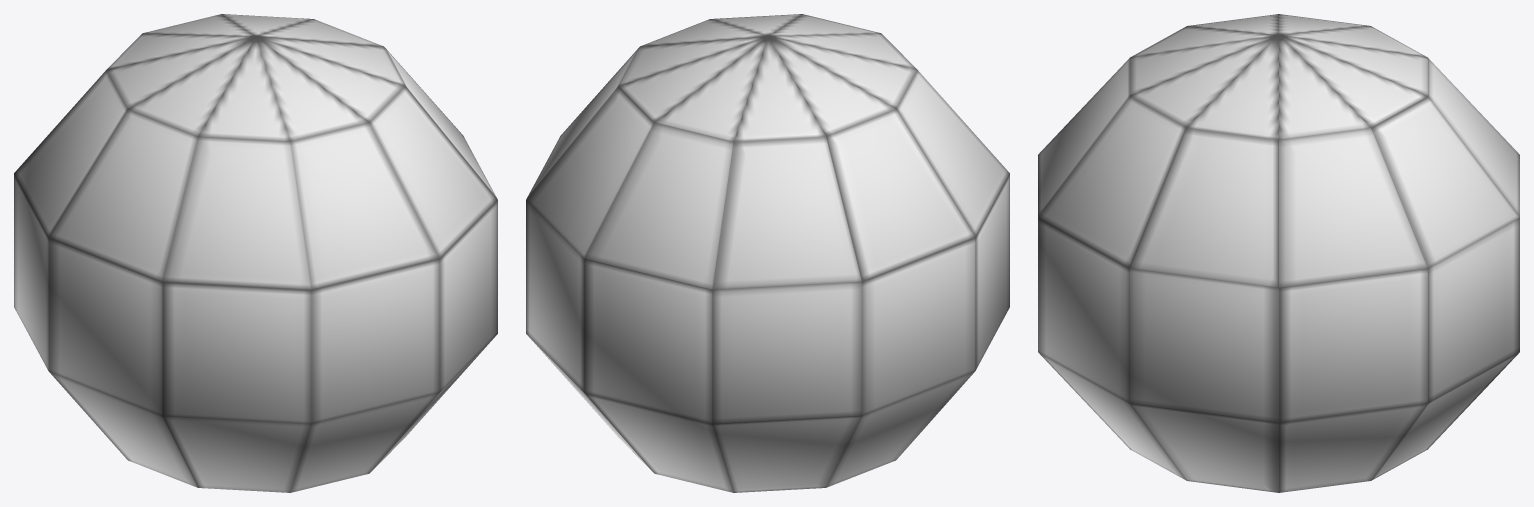
File: Ball-01.fbx
The picture shows the model from 3 angles, left to right: view 1: azimuth 30°, elevation 25°; view 2: azimuth 150°, elevation 25°; view 3: azimuth 270°, elevation 25°; orthographic projection.
Parts seen in each view (by area): view 1: Ball-01; view 2: Ball-01; view 3: Ball-01.
Part boxes in pixels (<box>): Ball-01: <box>14,14,497,492</box>; Ball-01: <box>526,14,1009,492</box>; Ball-01: <box>1038,14,1519,492</box>.
Bounding box in the file's own units: 1 × 1 × 1.
